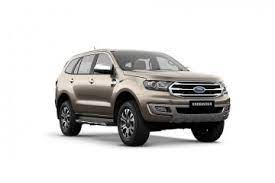Ford: (55, 51, 232, 146)
